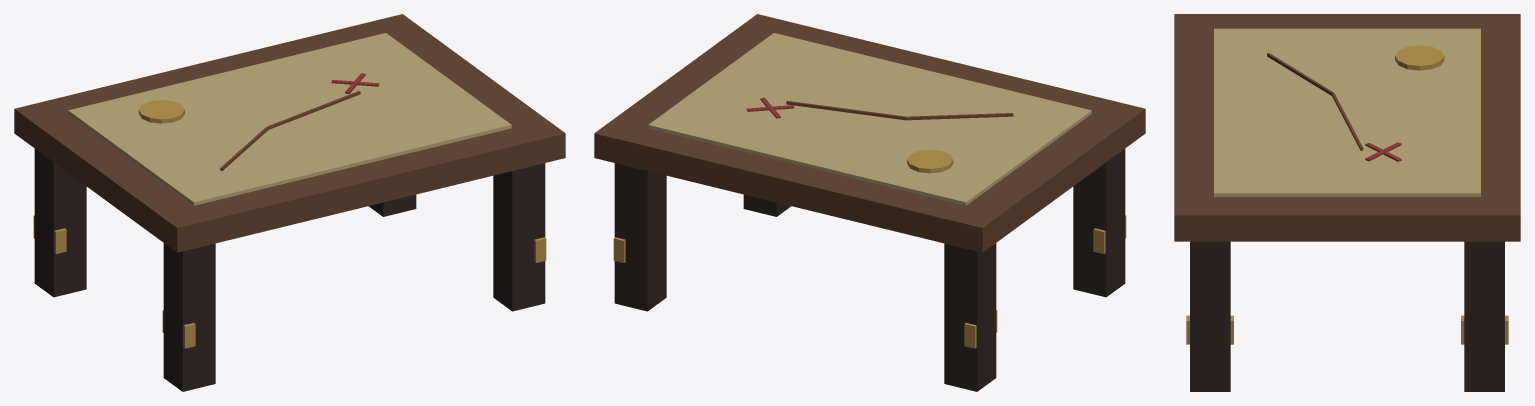
The model's file is PirateCove_MapTableTunnel_Standard.glb.
The picture shows the model from 3 angles, left to right: view 1: azimuth 30°, elevation 25°; view 2: azimuth 150°, elevation 25°; view 3: azimuth 270°, elevation 25°; orthographic projection. The views are drawn at different scales.
Visible parts, largest first — view 1: PirateCove_MapTableTunnel_Standard; view 2: PirateCove_MapTableTunnel_Standard; view 3: PirateCove_MapTableTunnel_Standard.
Boxes of the visible parts, x1,y1,x2,y2 form: PirateCove_MapTableTunnel_Standard: [14, 14, 565, 391]; PirateCove_MapTableTunnel_Standard: [594, 14, 1145, 391]; PirateCove_MapTableTunnel_Standard: [1174, 14, 1520, 391].
Size of the model in its own units: 3.3 by 1.48 by 2.4.
